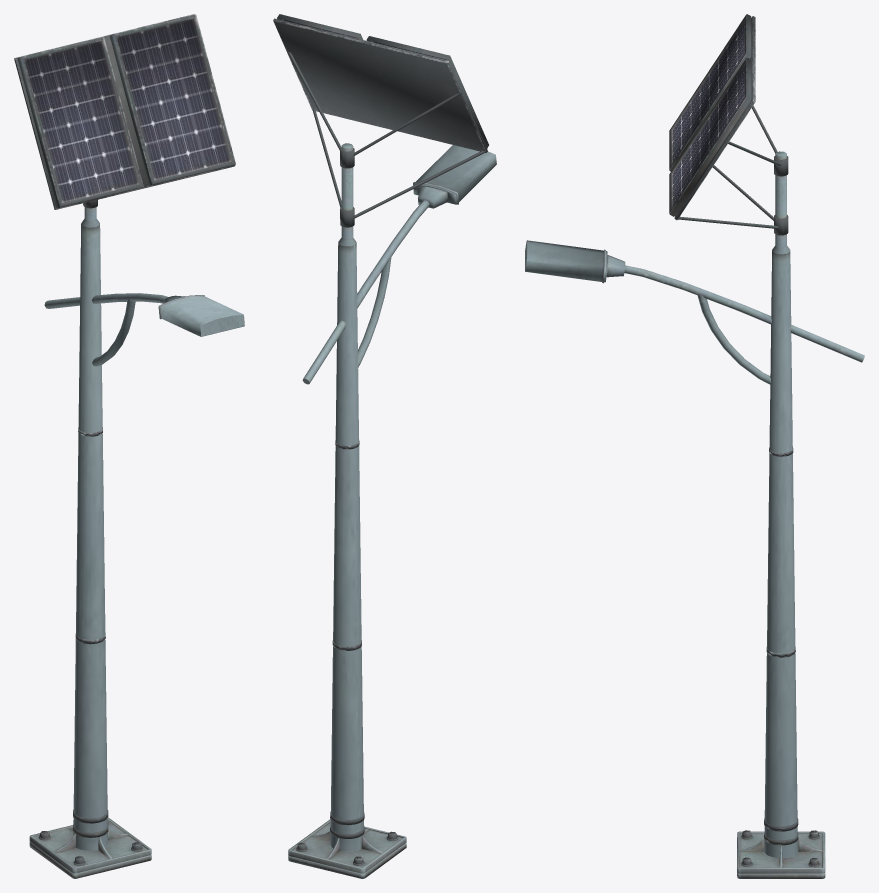
File: solar_streetlight.glb
3 views of the same model, side by side, from view 1: azimuth 30°, elevation 25°; view 2: azimuth 150°, elevation 25°; view 3: azimuth 270°, elevation 25° (orthographic). The views are drawn at different scales.
Parts seen in each view (by area): view 1: solar_streetlight; view 2: solar_streetlight; view 3: solar_streetlight.
Boxes of the visible parts, left/top/right/bottom form: solar_streetlight: left=14, top=14, right=244, bottom=878; solar_streetlight: left=273, top=14, right=496, bottom=878; solar_streetlight: left=525, top=14, right=864, bottom=878.
Size of the model in its own units: 1.48 by 6.5 by 2.49.
1 material, 1 textured.
